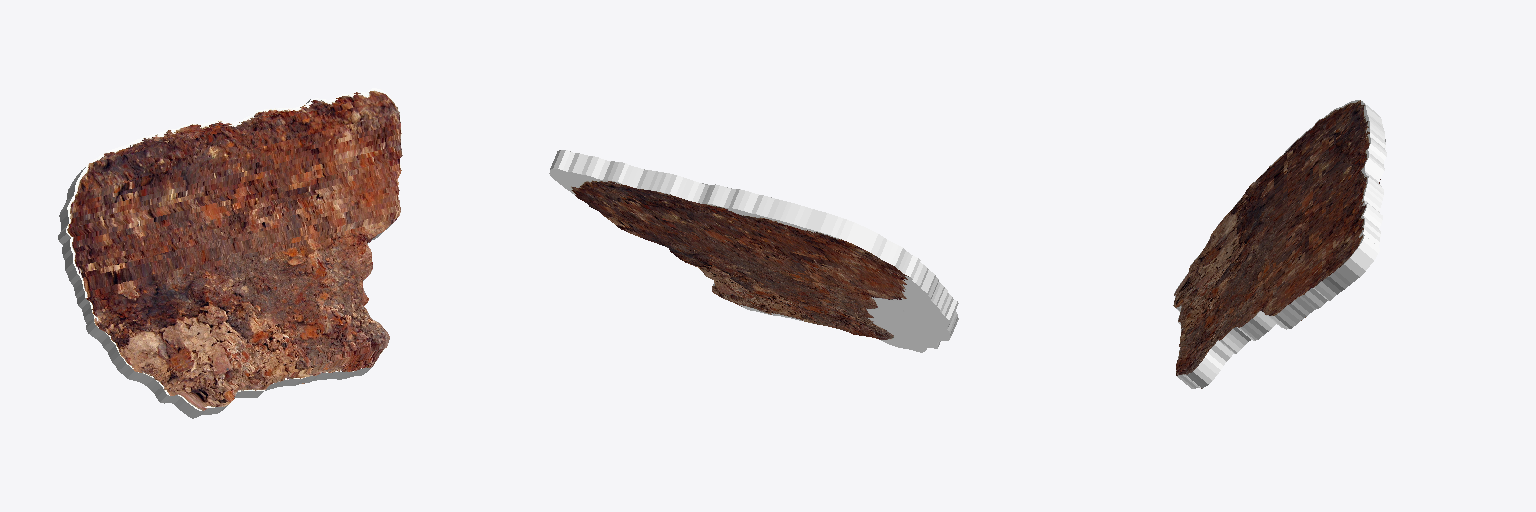
3 views of the same model, side by side, from view 1: azimuth 30°, elevation 25°; view 2: azimuth 150°, elevation 25°; view 3: azimuth 270°, elevation 25° (orthographic).
Visible parts, largest first — view 1: Layer_lines; view 2: Layer_lines; view 3: Layer_lines.
Boxes of the visible parts, <box> form: Layer_lines: <box>58,88,402,418</box>; Layer_lines: <box>549,150,958,352</box>; Layer_lines: <box>1173,100,1386,388</box>.
Bounding box in the file's own units: 3.2 × 1.81 × 1.68.
Materials: 1 (1 with a texture image).